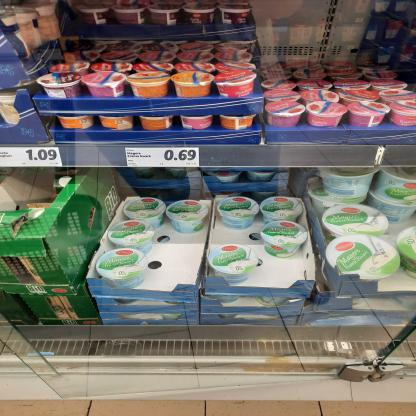prtg: (126, 149, 200, 168), (1, 149, 64, 168)
